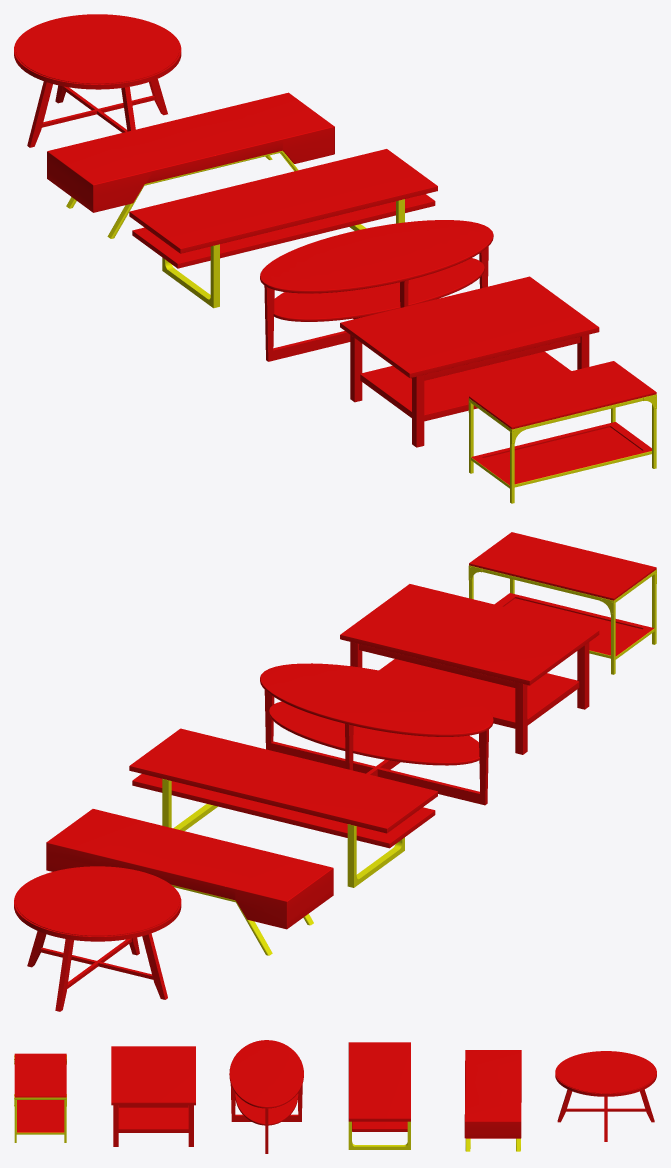
The model's file is RoboTHOR_coffee_tables_grp.fbx.
3 renders of one model, top to bottom at view 1: azimuth 30°, elevation 25°; view 2: azimuth 150°, elevation 25°; view 3: azimuth 270°, elevation 25°, orthographic. The views are drawn at different scales.
Parts seen in each view (by area): view 1: robothor_coffee_table_lisabo, robothor_coffee_table_hemnes, robothor_coffee_table_bankas, robothor_coffee_table_vejmon, robothor_coffee_table_kragsta, robothor_coffee_table_fjallbo, ps_robothor_coffee_table_fjallbo, ps_robothor_coffee_table_hemnes, ps_robothor_coffee_table_vejmon; view 2: robothor_coffee_table_lisabo, robothor_coffee_table_hemnes, robothor_coffee_table_bankas, robothor_coffee_table_vejmon, robothor_coffee_table_kragsta, robothor_coffee_table_fjallbo, ps_robothor_coffee_table_vejmon, ps_robothor_coffee_table_hemnes, ps_robothor_coffee_table_fjallbo; view 3: robothor_coffee_table_lisabo, robothor_coffee_table_hemnes, robothor_coffee_table_bankas, robothor_coffee_table_vejmon, robothor_coffee_table_kragsta, robothor_coffee_table_fjallbo, ps_robothor_coffee_table_fjallbo, ps_robothor_coffee_table_hemnes, ps_robothor_coffee_table_vejmon.
Boxes of the visible parts, <box> form: robothor_coffee_table_lisabo: <box>129,149,437,308</box>; robothor_coffee_table_hemnes: <box>340,276,599,447</box>; robothor_coffee_table_bankas: <box>47,92,334,238</box>; robothor_coffee_table_vejmon: <box>260,220,493,361</box>; robothor_coffee_table_kragsta: <box>14,14,181,147</box>; robothor_coffee_table_fjallbo: <box>468,361,656,503</box>; ps_robothor_coffee_table_fjallbo: <box>471,422,651,485</box>; ps_robothor_coffee_table_hemnes: <box>361,351,571,414</box>; ps_robothor_coffee_table_vejmon: <box>274,258,483,318</box>; robothor_coffee_table_lisabo: <box>129,728,437,887</box>; robothor_coffee_table_hemnes: <box>340,584,599,754</box>; robothor_coffee_table_bankas: <box>46,809,333,955</box>; robothor_coffee_table_vejmon: <box>260,663,493,805</box>; robothor_coffee_table_kragsta: <box>14,866,181,1011</box>; robothor_coffee_table_fjallbo: <box>468,532,656,674</box>; ps_robothor_coffee_table_vejmon: <box>269,701,479,762</box>; ps_robothor_coffee_table_hemnes: <box>379,659,578,721</box>; ps_robothor_coffee_table_fjallbo: <box>494,593,654,656</box>; robothor_coffee_table_lisabo: <box>348,1042,410,1149</box>; robothor_coffee_table_hemnes: <box>111,1046,195,1146</box>; robothor_coffee_table_bankas: <box>464,1050,521,1151</box>; robothor_coffee_table_vejmon: <box>229,1040,303,1153</box>; robothor_coffee_table_kragsta: <box>555,1051,656,1141</box>; robothor_coffee_table_fjallbo: <box>14,1053,66,1142</box>; ps_robothor_coffee_table_fjallbo: <box>17,1100,64,1132</box>; ps_robothor_coffee_table_hemnes: <box>118,1105,188,1128</box>; ps_robothor_coffee_table_vejmon: <box>235,1093,297,1123</box>.
Bounding box in the file's own units: 160 × 48.06 × 568.
